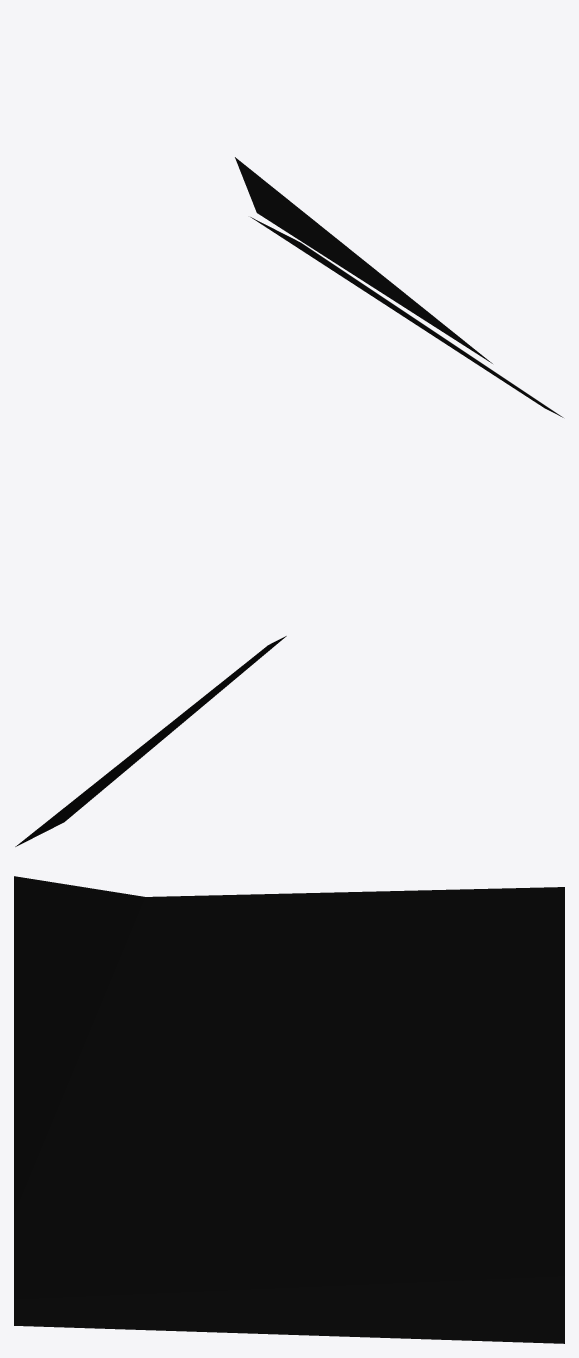
3 views of the same model, one above another, from view 1: azimuth 30°, elevation 25°; view 2: azimuth 150°, elevation 25°; view 3: azimuth 270°, elevation 25° (orthographic). The views are drawn at different scales.
Size of the model in its own units: 1.99 by 1.84 by 2.95.
Materials: 2 (2 with a texture image).
